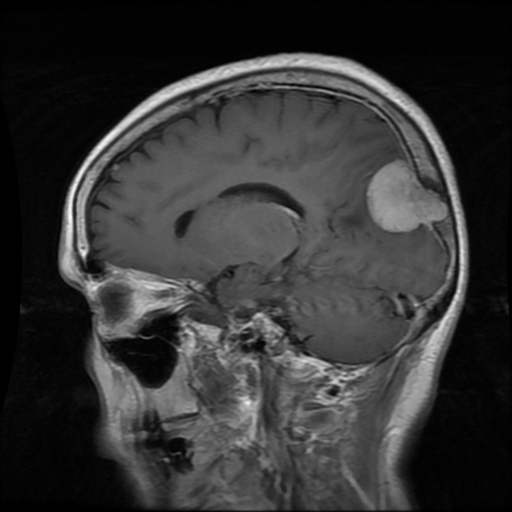meningioma: (367, 159, 447, 234)
